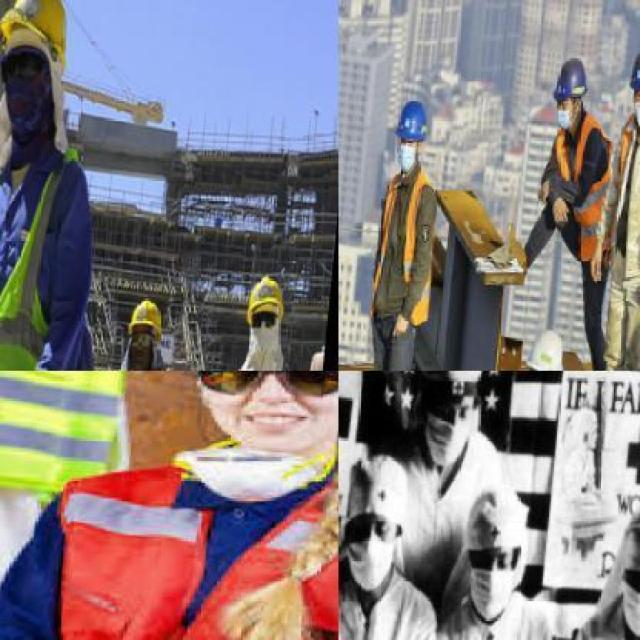Vest: (34, 411, 337, 638), (0, 138, 100, 370), (0, 371, 148, 503), (546, 106, 620, 269), (376, 165, 450, 320), (606, 103, 639, 259)
